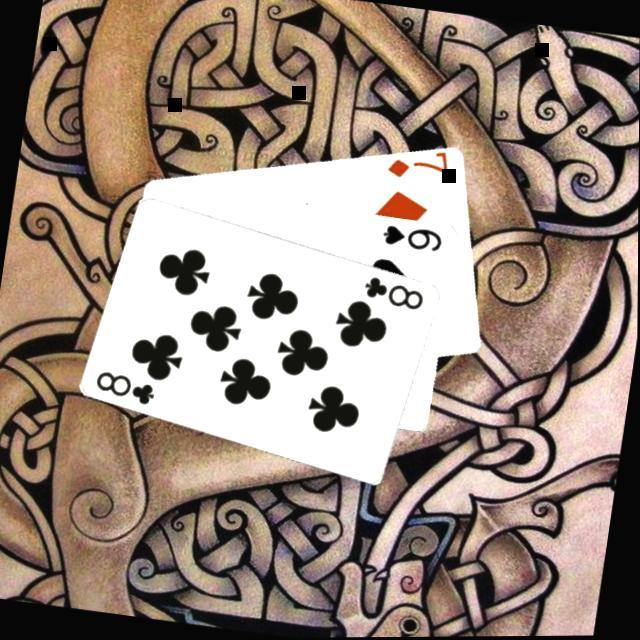6S: (380, 222, 448, 256)
7D: (384, 145, 455, 189)
8C: (361, 273, 431, 316), (91, 368, 162, 410)
